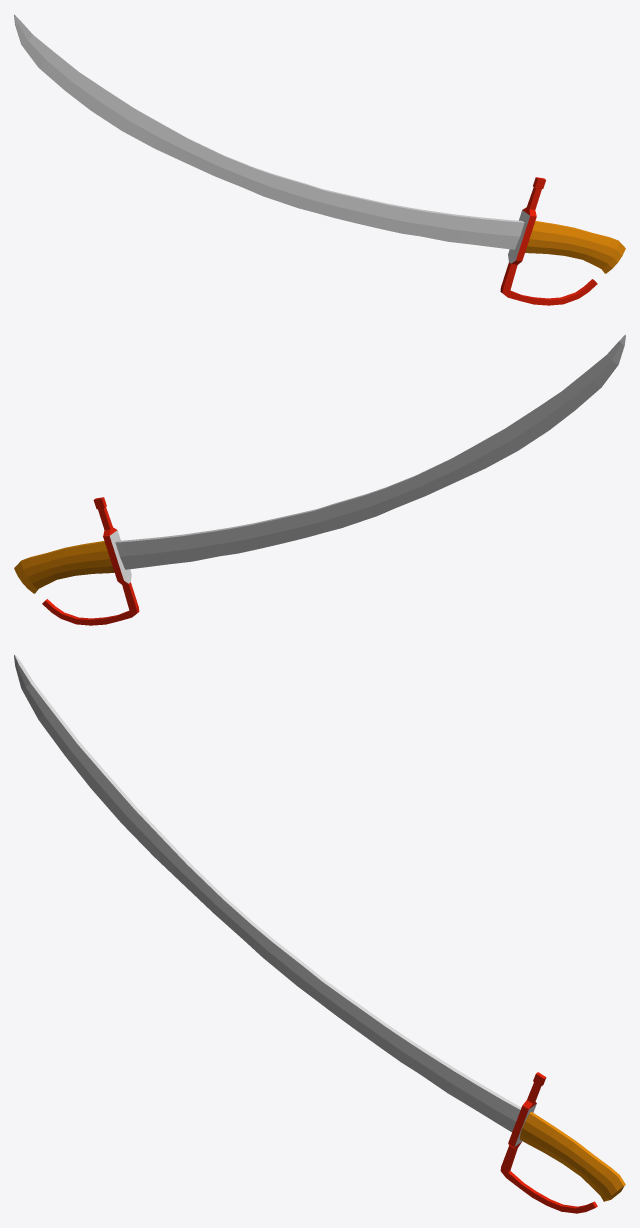
Rendered from Saber.fbx.
3 renders of one model, top to bottom at view 1: azimuth 30°, elevation 25°; view 2: azimuth 150°, elevation 25°; view 3: azimuth 330°, elevation 25°, orthographic.
Parts seen in each view (by area): view 1: Saber; view 2: Saber; view 3: Saber.
Boxes of the visible parts, x1,y1,x2,y2 form: Saber: [14, 14, 625, 305]; Saber: [14, 334, 625, 625]; Saber: [14, 654, 625, 1213].
Size of the model in its own units: 336 by 222 by 7.68.
